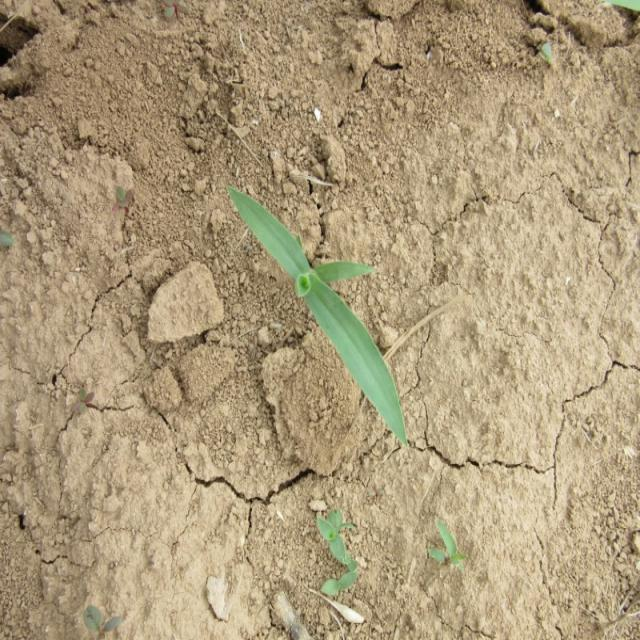bg: (222, 180, 416, 450)
